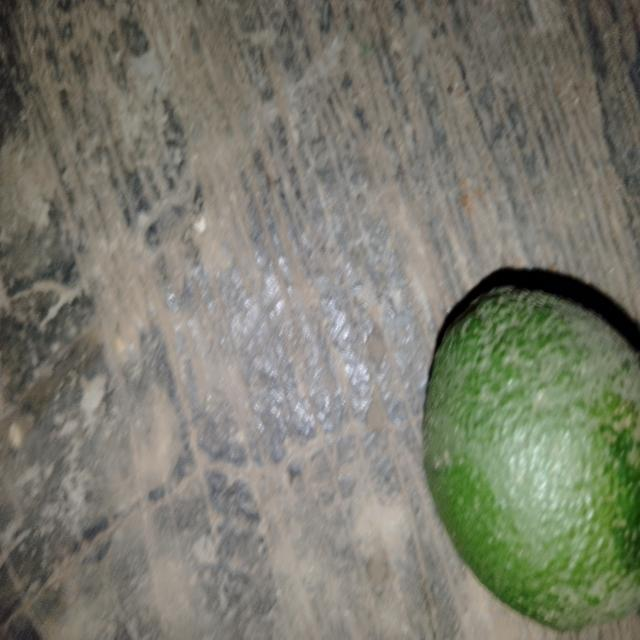Unripe: (412, 267, 640, 636)
